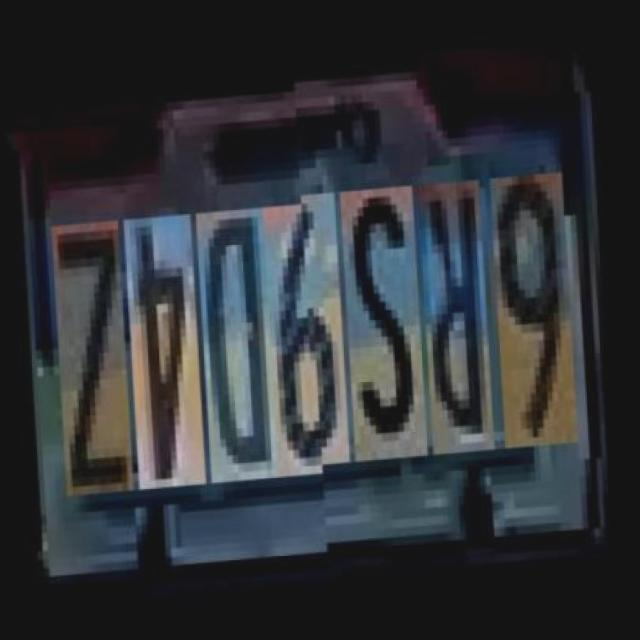4: (125, 208, 205, 483)
6: (492, 183, 578, 458)
9: (264, 199, 350, 474)
d: (198, 203, 277, 478)
r: (420, 188, 495, 463)
s: (342, 193, 428, 469)
z: (53, 214, 133, 488)
